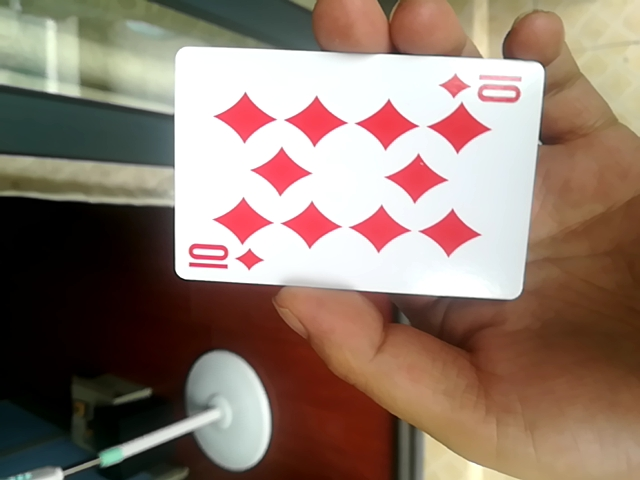fk 10: (170, 42, 538, 307)
